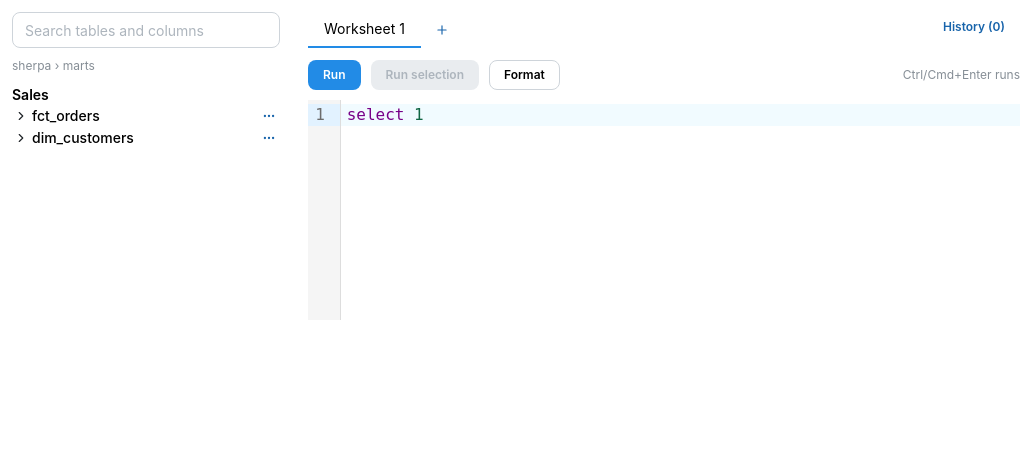
Explorer results › a timeout shows its hint
The image size is (1036, 455).
Click the button "Run".
click(334, 75)  # box x1=308 y1=60 x2=360 y2=90
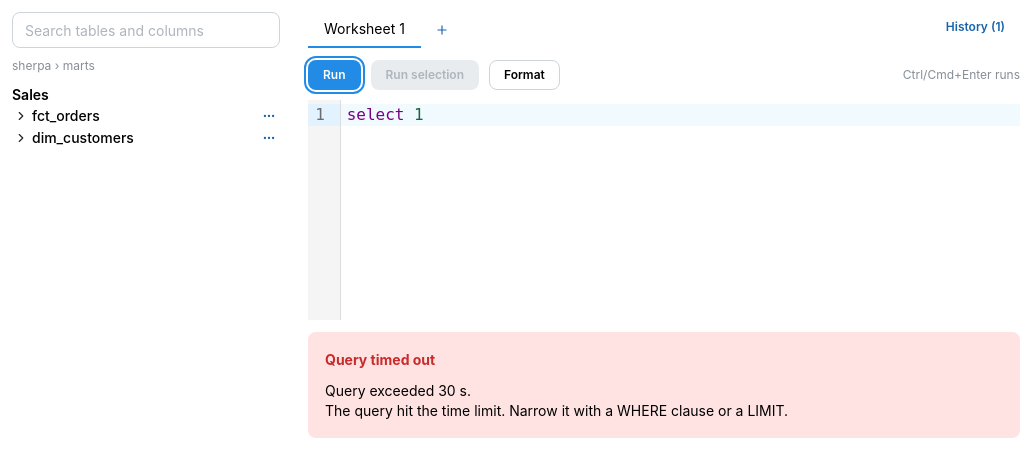
Expected: the text "Query timed out" is shown, x1=325 y1=349 x2=435 y2=371
Expected: the text "Narrow it with a WHERE clause or a LIMIT" is shown, x1=325 y1=402 x2=788 y2=419
